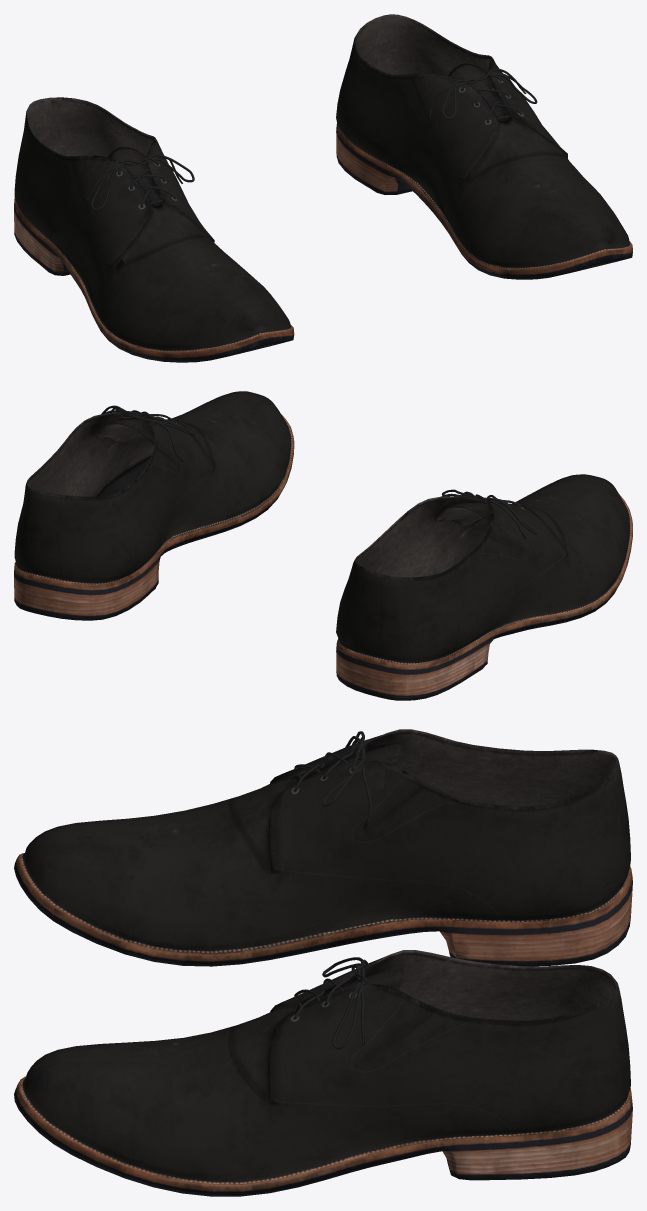
File: shoes2-double.glb
3 views of the same model, one above another, from view 1: azimuth 30°, elevation 25°; view 2: azimuth 150°, elevation 25°; view 3: azimuth 270°, elevation 25° (orthographic). The views are drawn at different scales.
Parts seen in each view (by area): view 1: Object_4, Object_4.001; view 2: Object_4.001, Object_4; view 3: Object_4, Object_4.001.
Boxes of the visible parts, x1,y1,x2,y2 form: Object_4: (336, 14, 632, 279); Object_4.001: (14, 97, 294, 362); Object_4.001: (336, 474, 632, 700); Object_4: (14, 391, 294, 620); Object_4: (14, 950, 632, 1196); Object_4.001: (14, 729, 632, 966).
Bounding box in the file's own units: 0.4678 × 0.1226 × 0.3787.
Materials: 2 (2 with a texture image).
